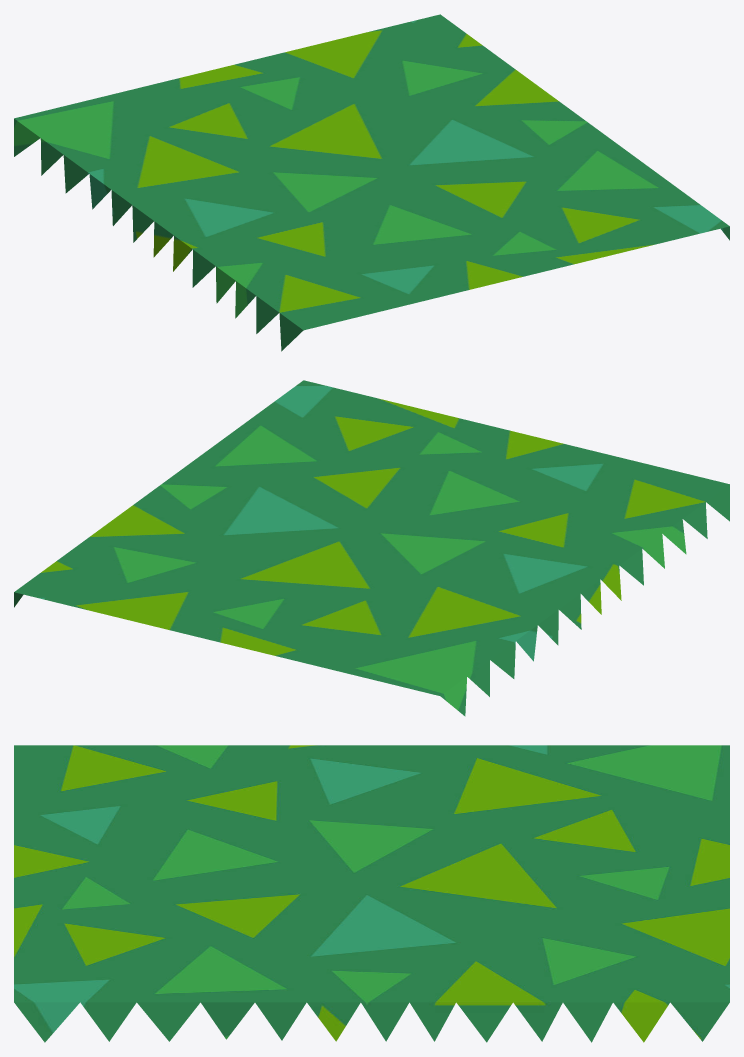
The model's file is Grass Thin Edge.fbx.
3 renders of one model, top to bottom at view 1: azimuth 30°, elevation 25°; view 2: azimuth 150°, elevation 25°; view 3: azimuth 270°, elevation 25°, orthographic. The views are drawn at different scales.
Parts seen in each view (by area): view 1: Grass.Thin.Edge; view 2: Grass.Thin.Edge; view 3: Grass.Thin.Edge.
Part boxes in pixels (left/top/right/bottom): Grass.Thin.Edge: left=14, top=14, right=729, bottom=351; Grass.Thin.Edge: left=14, top=380, right=729, bottom=716; Grass.Thin.Edge: left=14, top=745, right=729, bottom=1042.
Size of the model in its own units: 1.8 by 0.1013 by 2.
